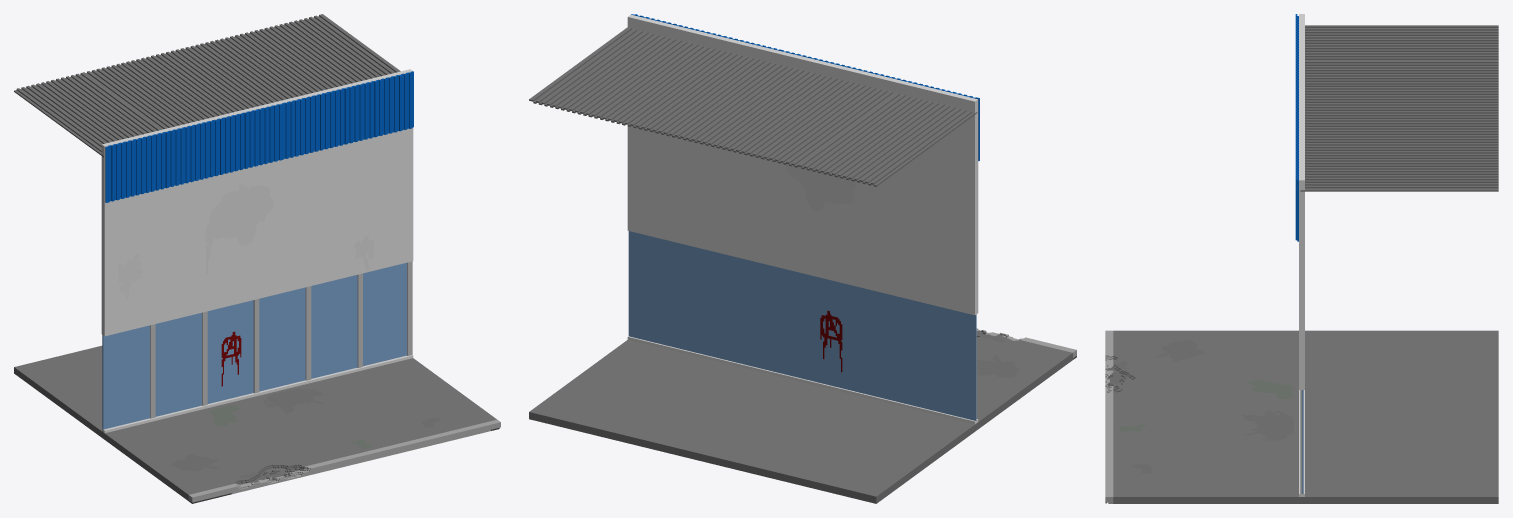
File: shop_v2.vox.obj
3 views of the same model, side by side, from view 1: azimuth 30°, elevation 25°; view 2: azimuth 150°, elevation 25°; view 3: azimuth 270°, elevation 25° (orthographic). The views are drawn at different scales.
Size of the model in its own units: 25 by 22.7 by 25.
1 material, 1 textured.
